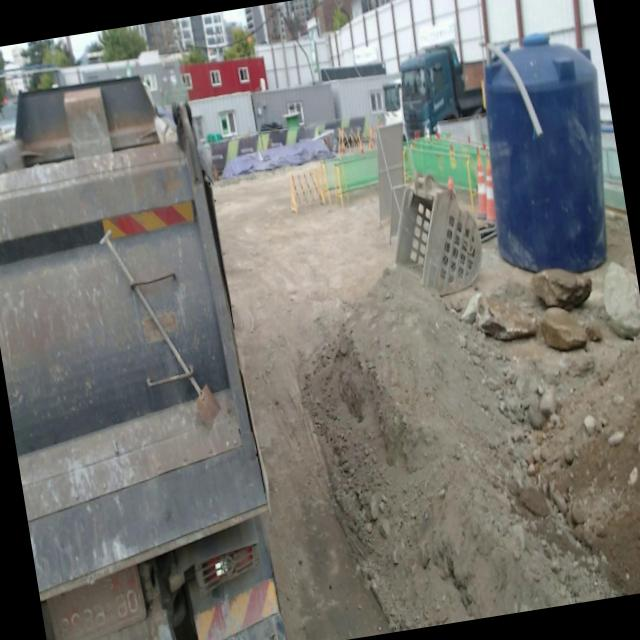rocks: (460, 331, 625, 516)
sand: (217, 174, 575, 640), (566, 340, 640, 596)
stone: (476, 294, 538, 341), (603, 263, 640, 339), (531, 269, 592, 310), (540, 307, 588, 351)
